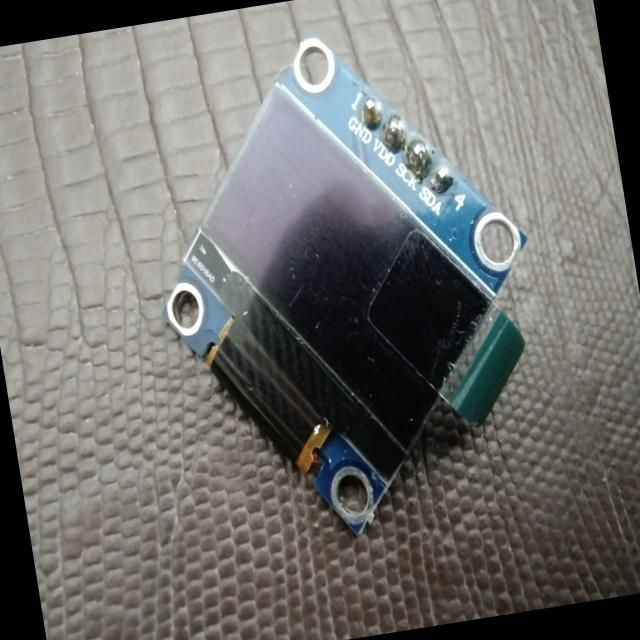oled: (122, 0, 582, 580)
